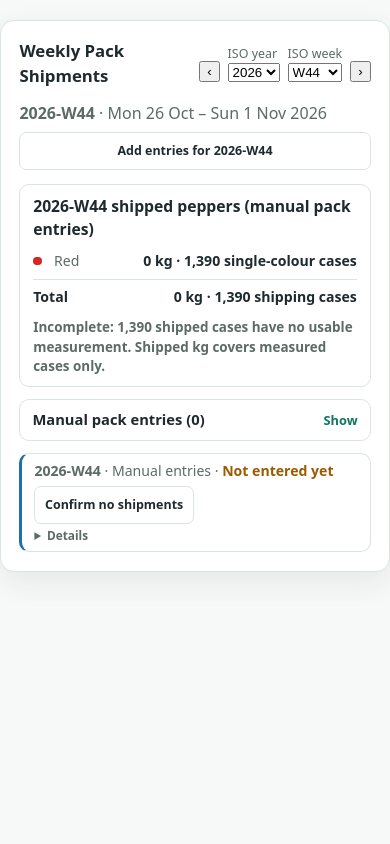
Test: Historical rebuild weeks › a week with nothing entered says so — unknown, not zero — and can be confirmed as no shipments
Click the button with aria-label "Confirm no shipments this week" at (114, 505), box [34,486,194,524]
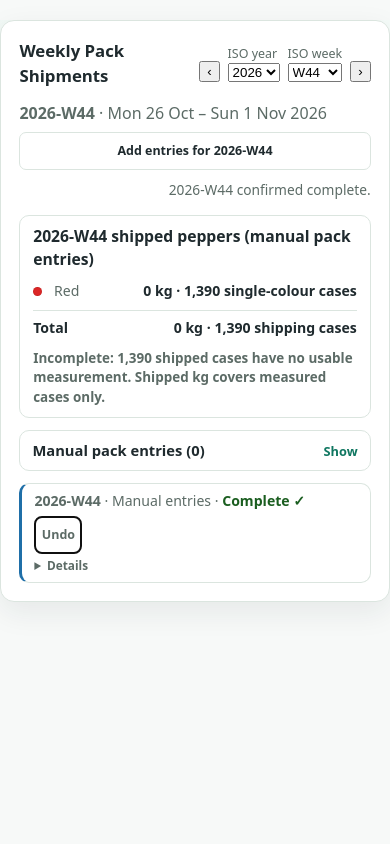
Check: the text "Complete ✓" is shown, box [222,491,305,510]
Check: the button with aria-label "Undo confirmation" is shown, box [34,516,82,554]
